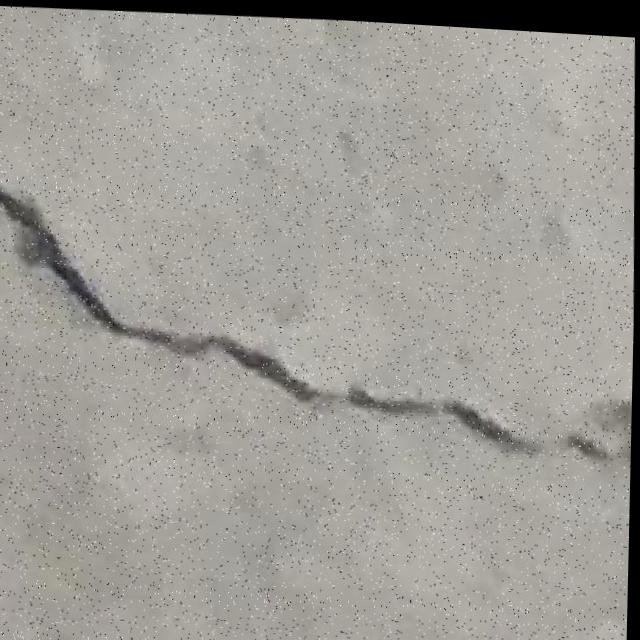Crack: (0, 156, 637, 476)
